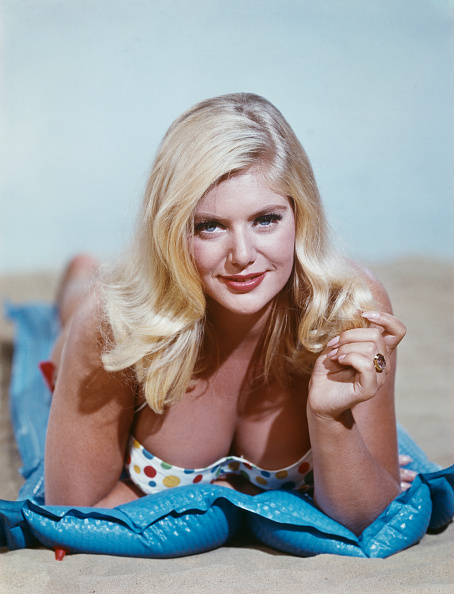deitado: (0, 96, 447, 564)
